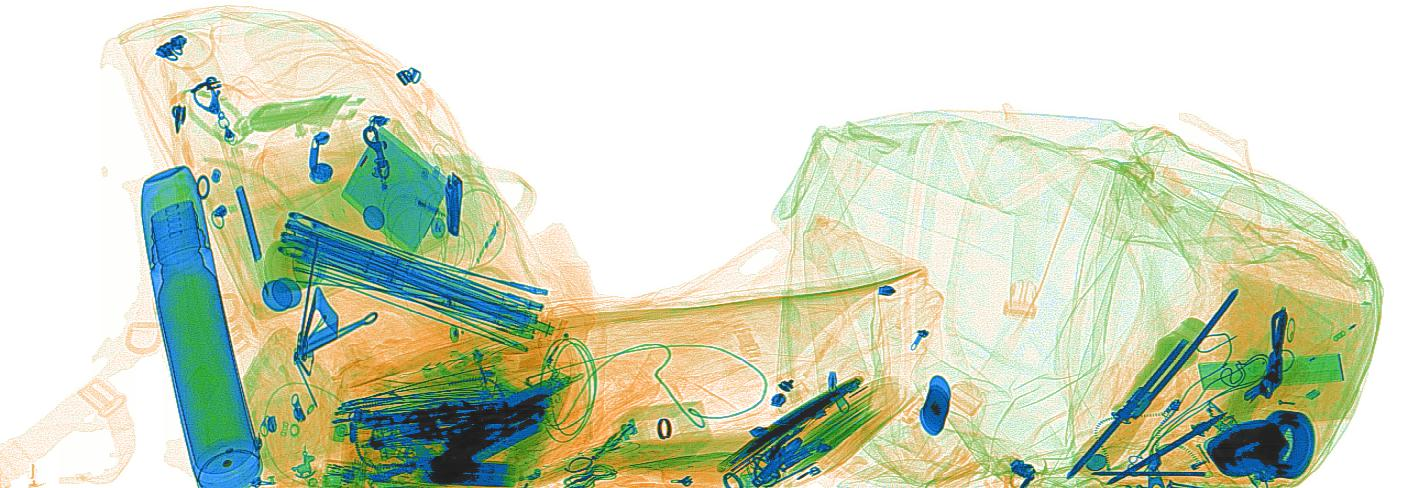battery: (454, 373, 573, 467)
